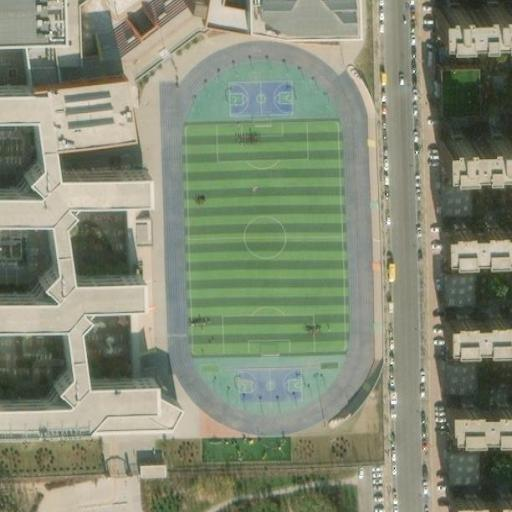building: (0, 0, 355, 428), (437, 209, 512, 245), (438, 124, 512, 159), (442, 389, 512, 423), (444, 478, 512, 512), (432, 0, 512, 25), (431, 67, 470, 116), (440, 334, 472, 392), (442, 421, 469, 481), (442, 158, 465, 211), (446, 245, 467, 301), (139, 456, 169, 473)
